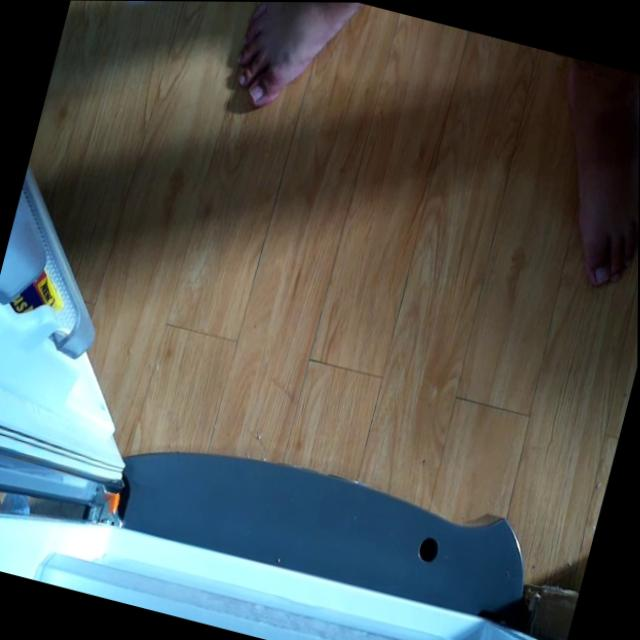milk: (83, 0, 205, 22)
